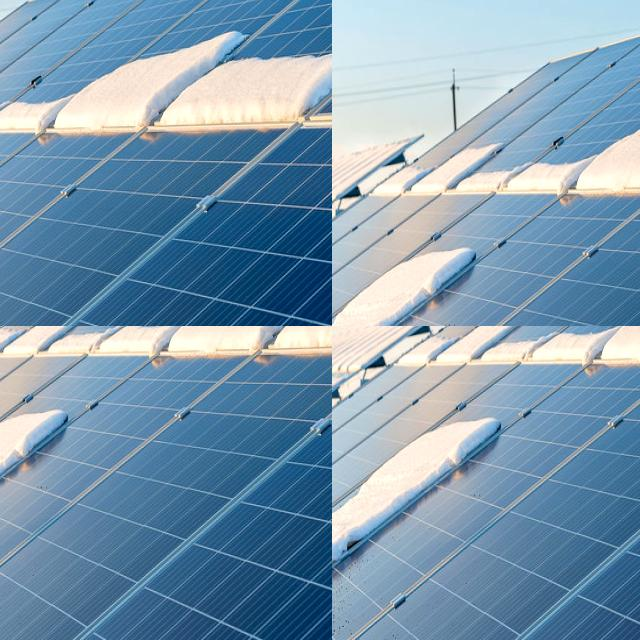bird: (83, 121, 219, 326), (350, 404, 514, 502), (0, 26, 58, 280), (104, 0, 213, 103), (0, 409, 132, 492), (51, 510, 123, 640), (237, 448, 313, 566), (0, 152, 42, 326), (0, 0, 56, 127), (0, 421, 55, 538), (157, 593, 278, 640), (0, 508, 39, 640), (0, 0, 90, 57), (0, 205, 38, 326), (0, 558, 40, 640), (294, 575, 332, 640), (222, 326, 274, 367), (175, 326, 231, 352), (126, 326, 145, 399)
panel: (332, 326, 435, 419), (464, 326, 597, 384), (332, 521, 382, 573)
